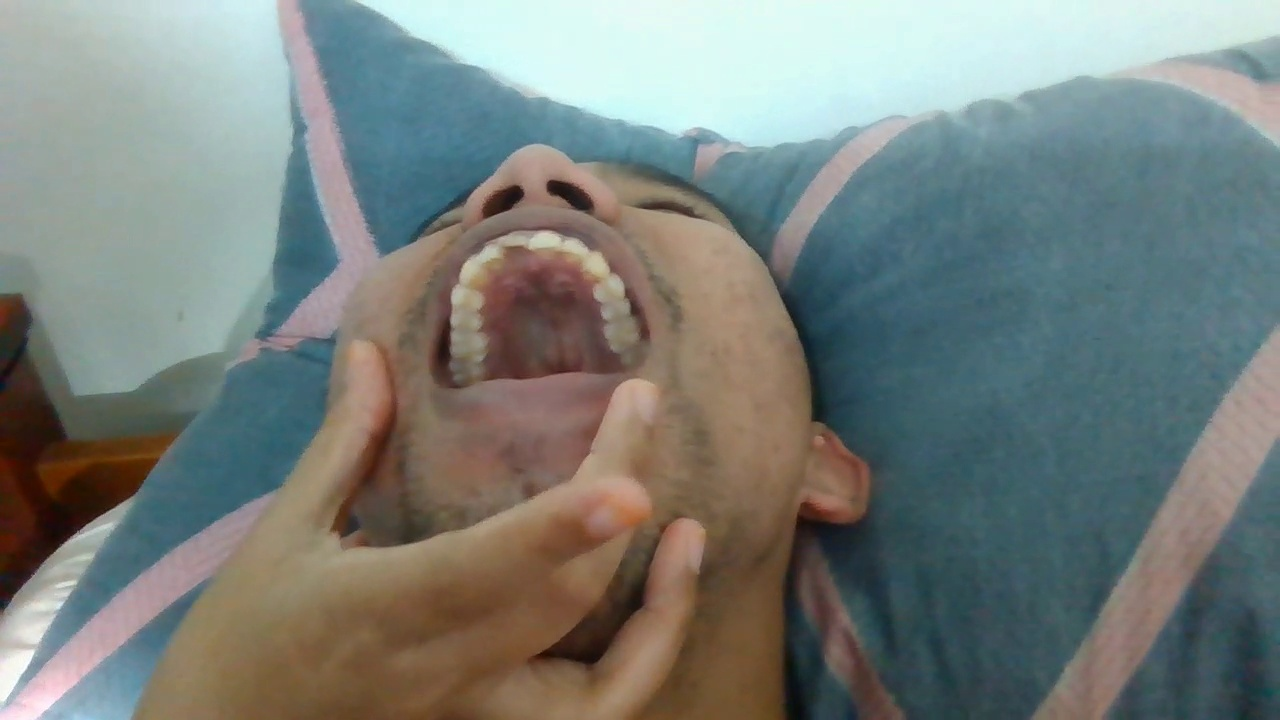1st Molar: (601, 317, 641, 352), (450, 332, 489, 361)
1st Premolar: (450, 285, 485, 310), (593, 276, 624, 302)
2nd Molar: (449, 363, 490, 384)
2nd Premolar: (449, 311, 484, 329), (599, 301, 630, 318)
Canine: (460, 260, 492, 286), (582, 253, 610, 278)
Central Incisor: (530, 227, 563, 250), (498, 230, 530, 250)
Lateral Incisor: (477, 241, 504, 264), (563, 235, 588, 258)
